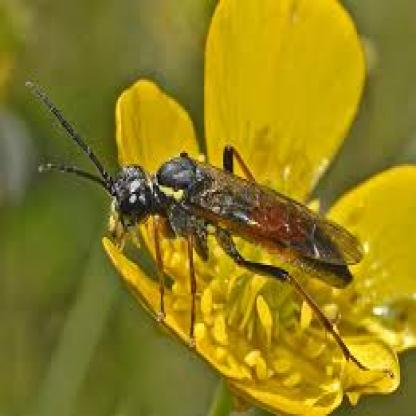sawfly: (24, 83, 378, 373)
